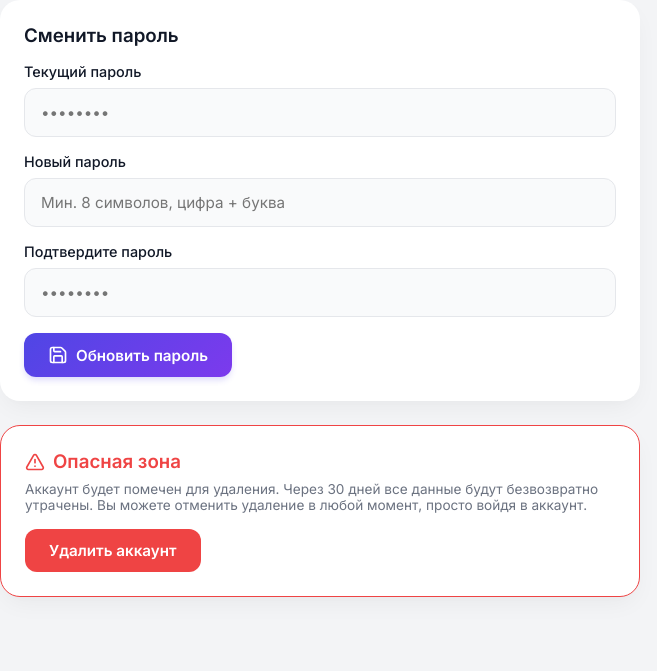
SettingsSecurityPage › shows validation error for empty fields
The image size is (657, 671).
What coordinates should you click on to do the following:
click the button "Обновить пароль"
I would click on:
 (128, 355)
Its box is [24,333,232,377].
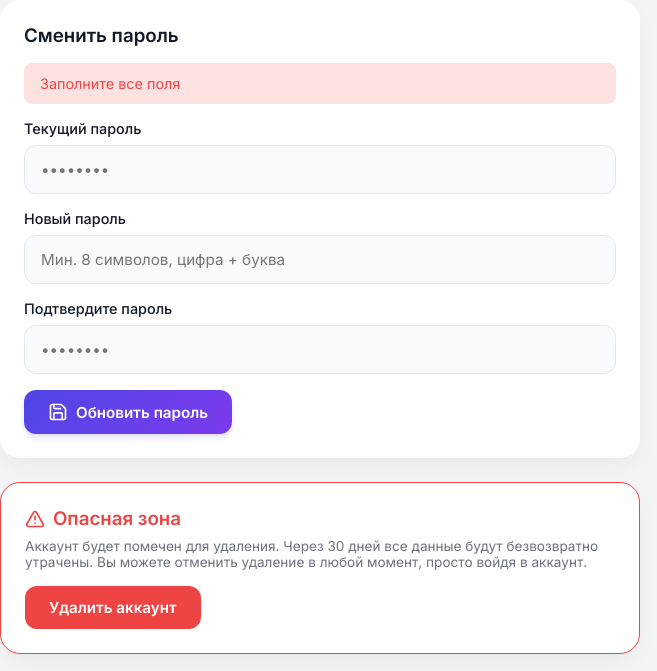
Expected: the text "Заполните все поля" is shown, [24,63,616,104]
